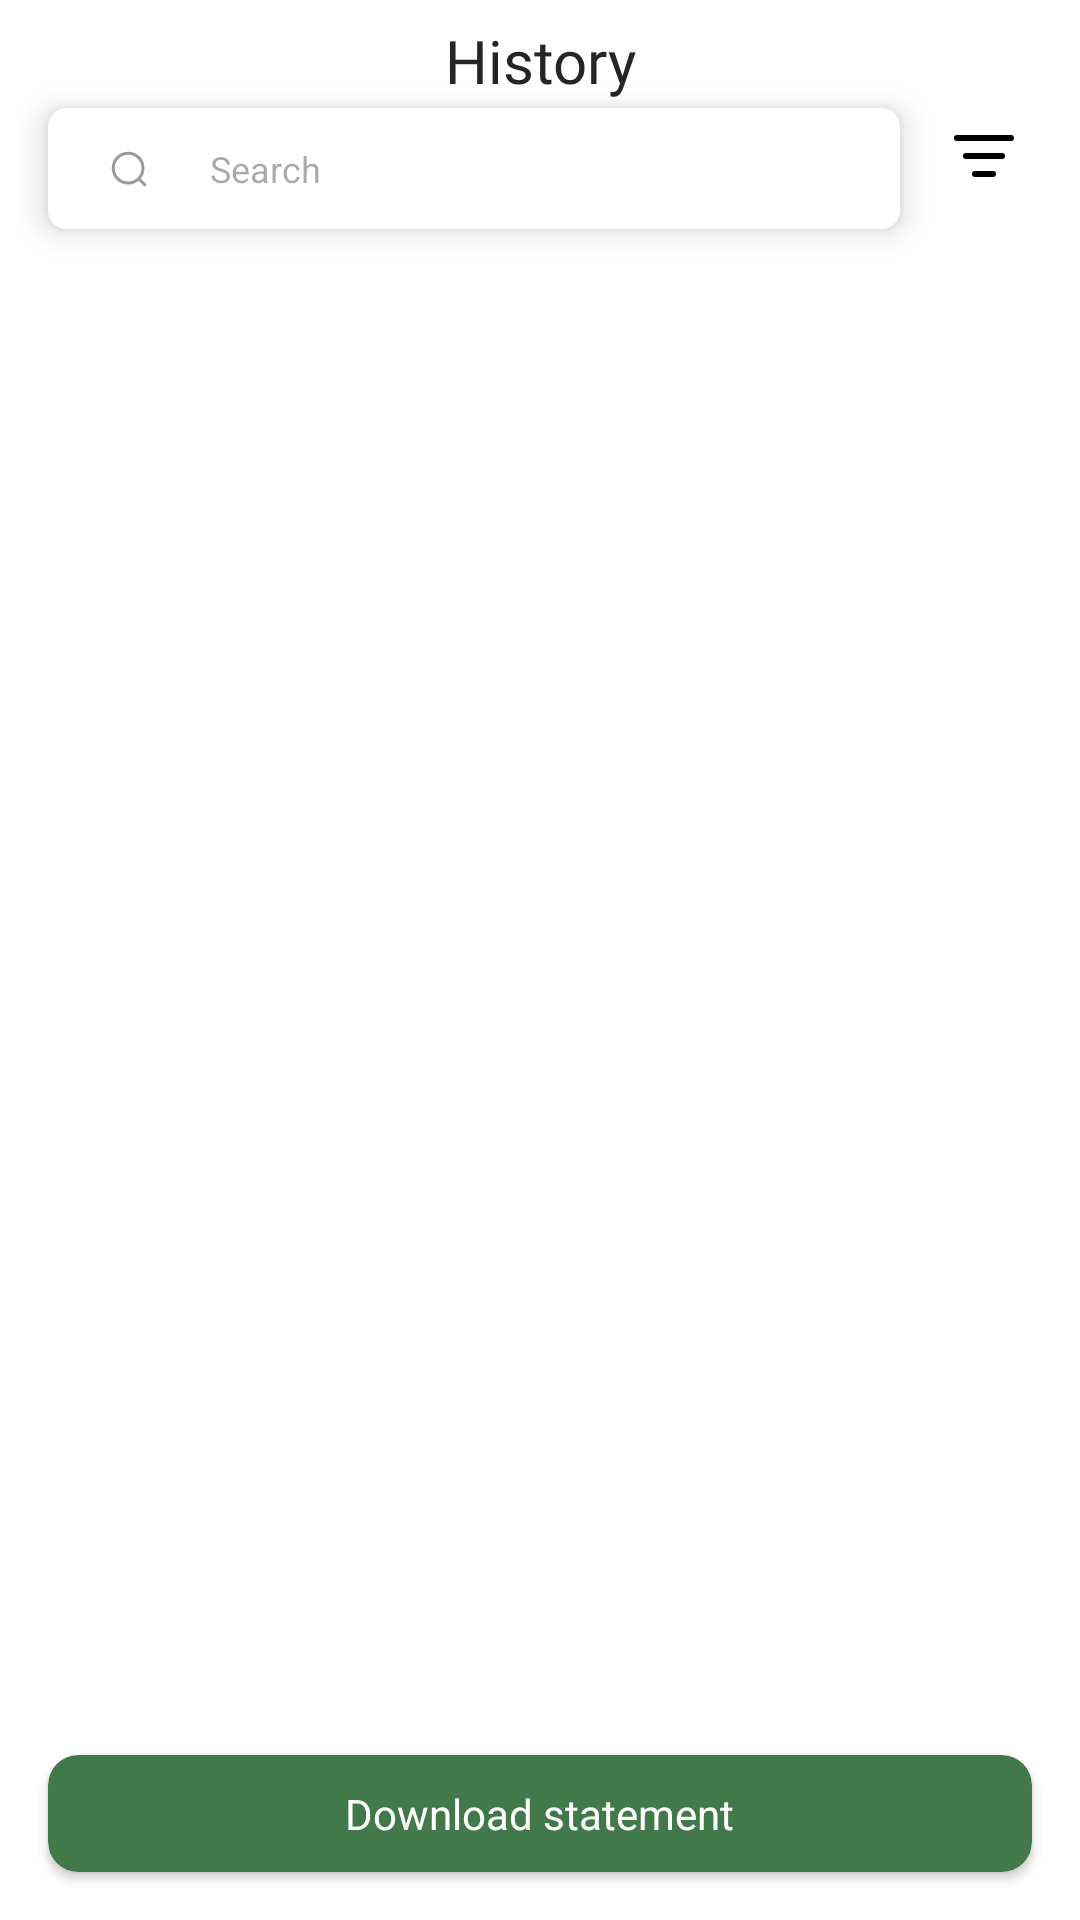

Locate icon controls on the screen. Image size 1080×1920, boxes as (x1, y1, x2, y2).
filter: (954, 135, 1014, 177)
